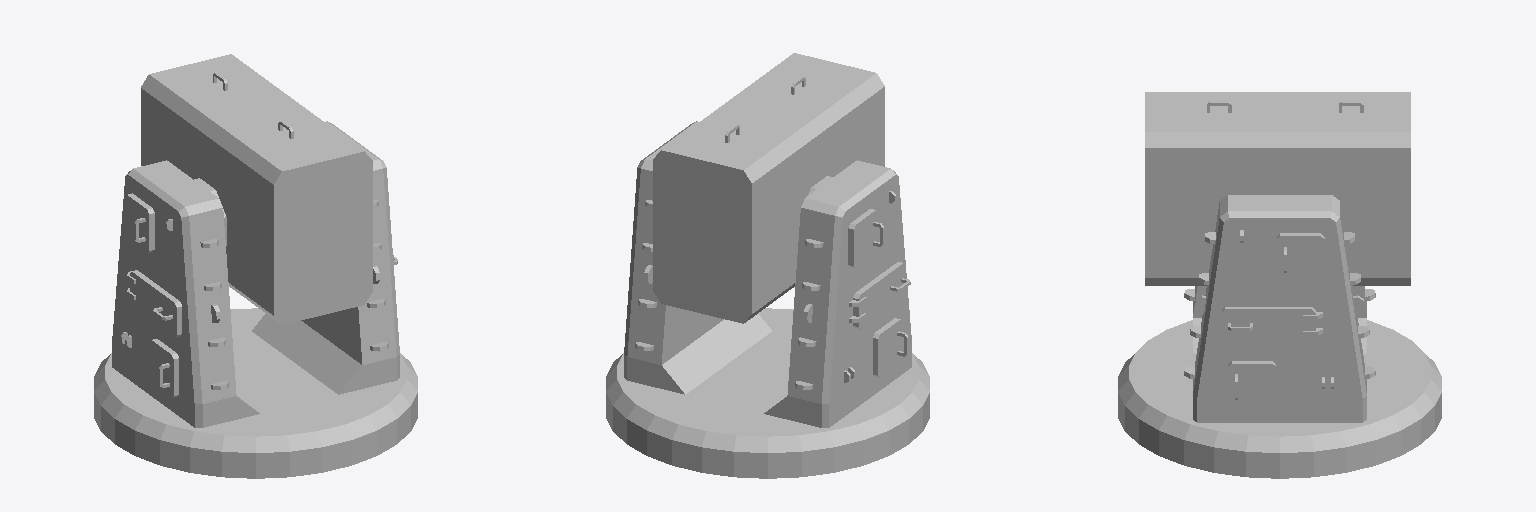
File: typhoon s1-12 launcher.obj
3 renders of one model, left to right at view 1: azimuth 30°, elevation 25°; view 2: azimuth 150°, elevation 25°; view 3: azimuth 270°, elevation 25°, orthographic.
Visible parts, largest first — view 1: launcher; view 2: launcher; view 3: launcher.
Boxes of the visible parts, x1=… form: launcher: x1=94, y1=54, x2=417, y2=478; launcher: x1=606, y1=53, x2=929, y2=478; launcher: x1=1118, y1=92, x2=1441, y2=478.
Size of the model in its own units: 61 by 63.49 by 60.67.